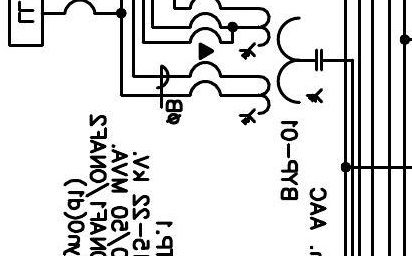115_cvt_3p: (238, 6, 323, 126)
